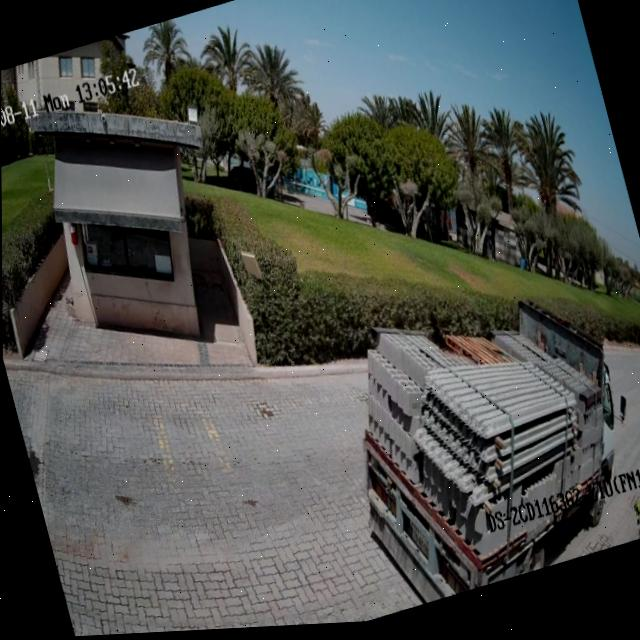bricks: (367, 328, 451, 482)
